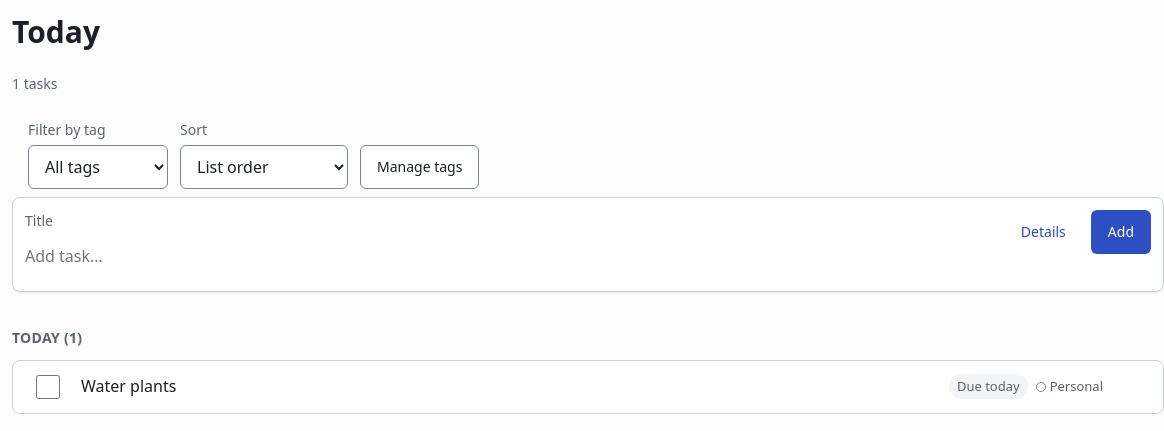
Test case: M4 complete/uncomplete — §5.6 optimism, F3 retention, §5.5 announcements › applies completion to the UI while the write is still in flight (hangWrites)
Step 1. Click the checkbox named "Mark \"Water plants\" as complete" → point(48, 387), box [36,375,60,399]
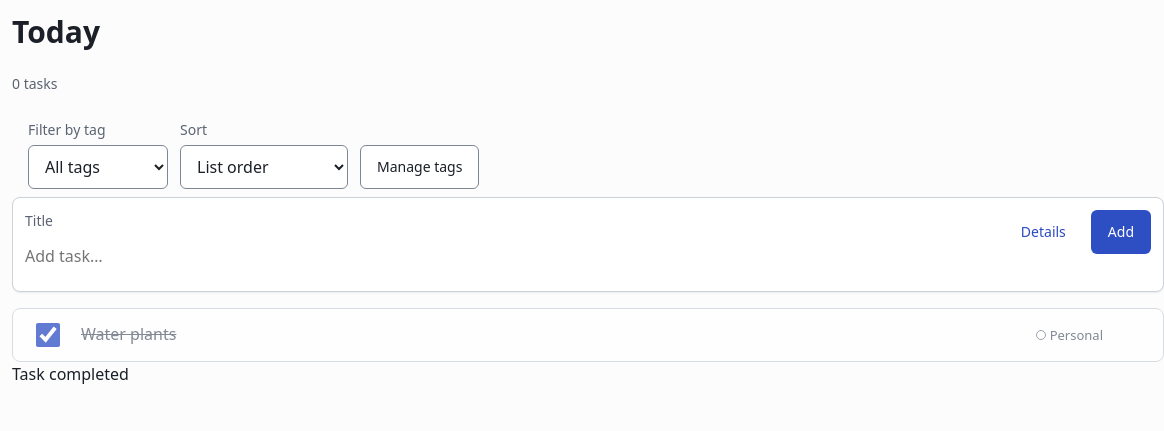
Now the text "Task completed" is shown, box [12,363,129,385]
